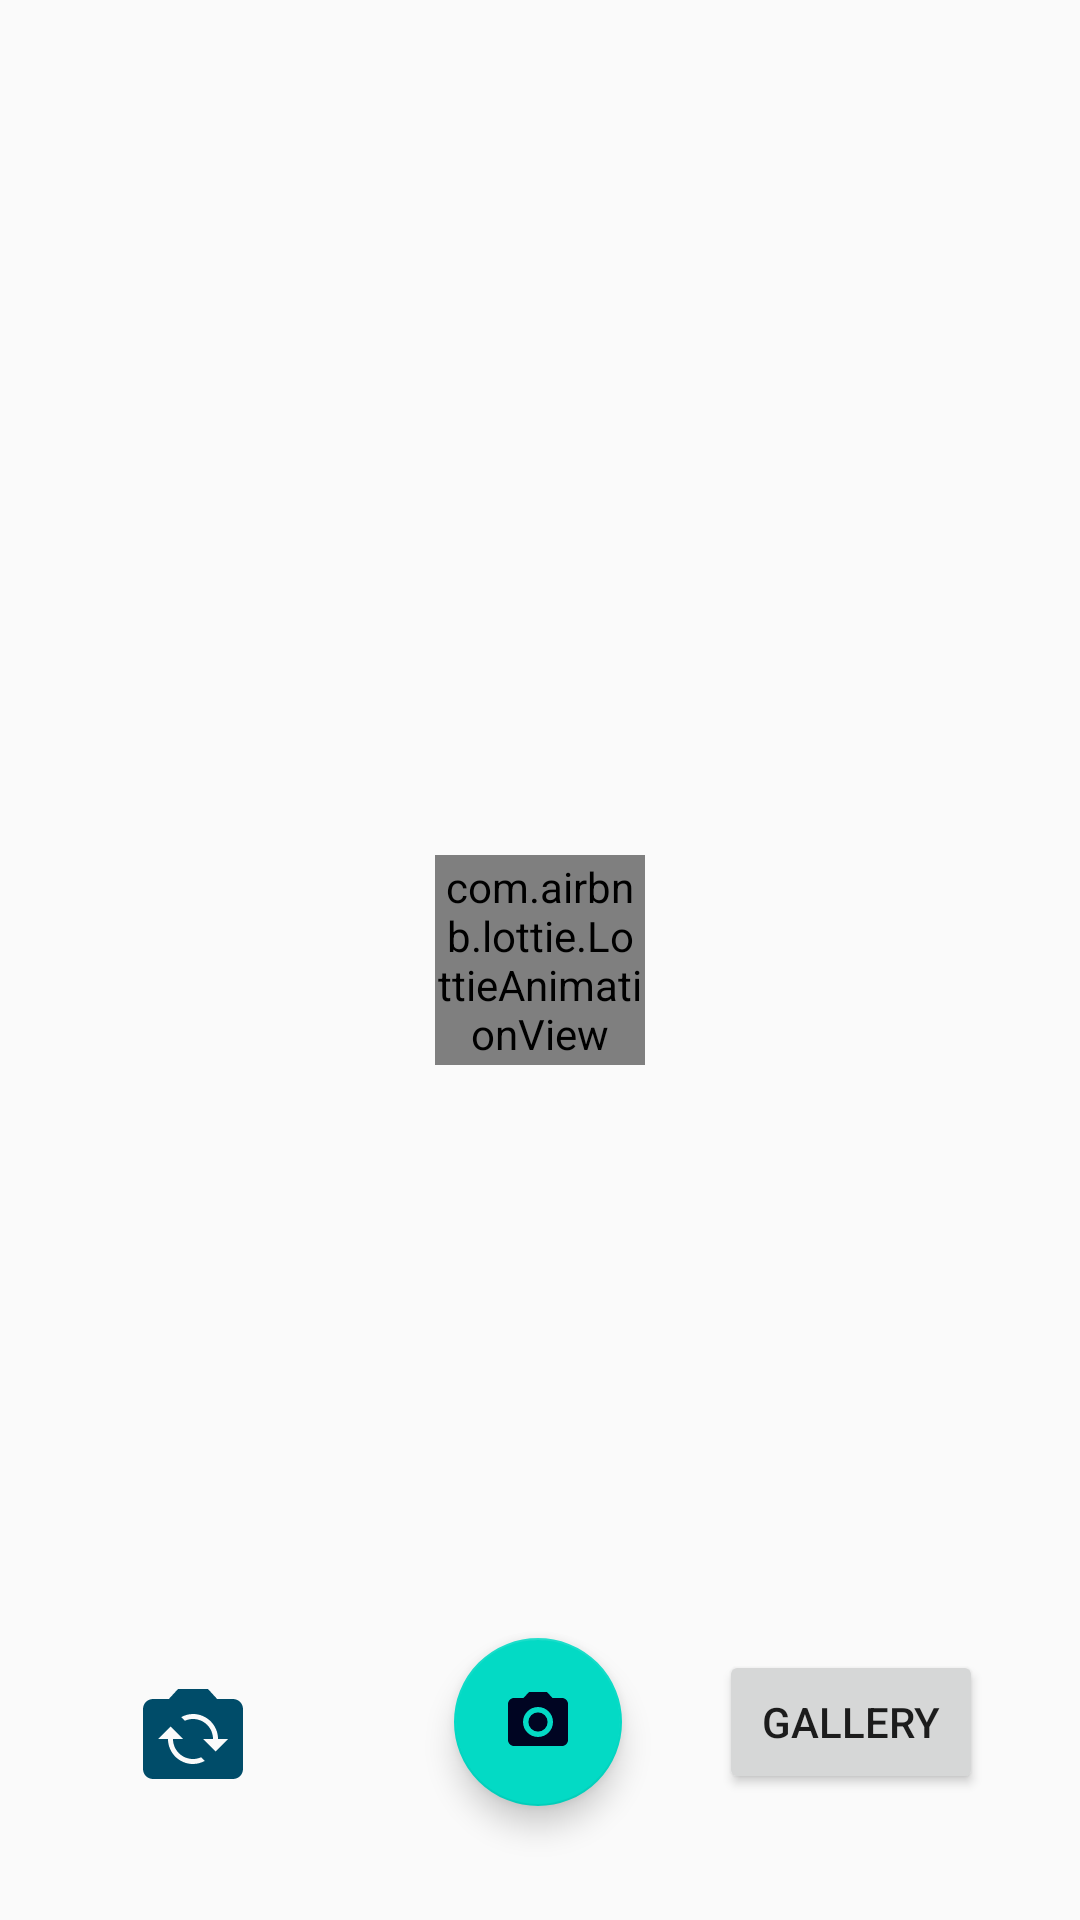

Icon bounding boxes for this 1080 × 1920 phone screenshot, format [x1, y1, x2, y2]:
camflip: [143, 1689, 243, 1779]
photo camera: [454, 1638, 622, 1806]
